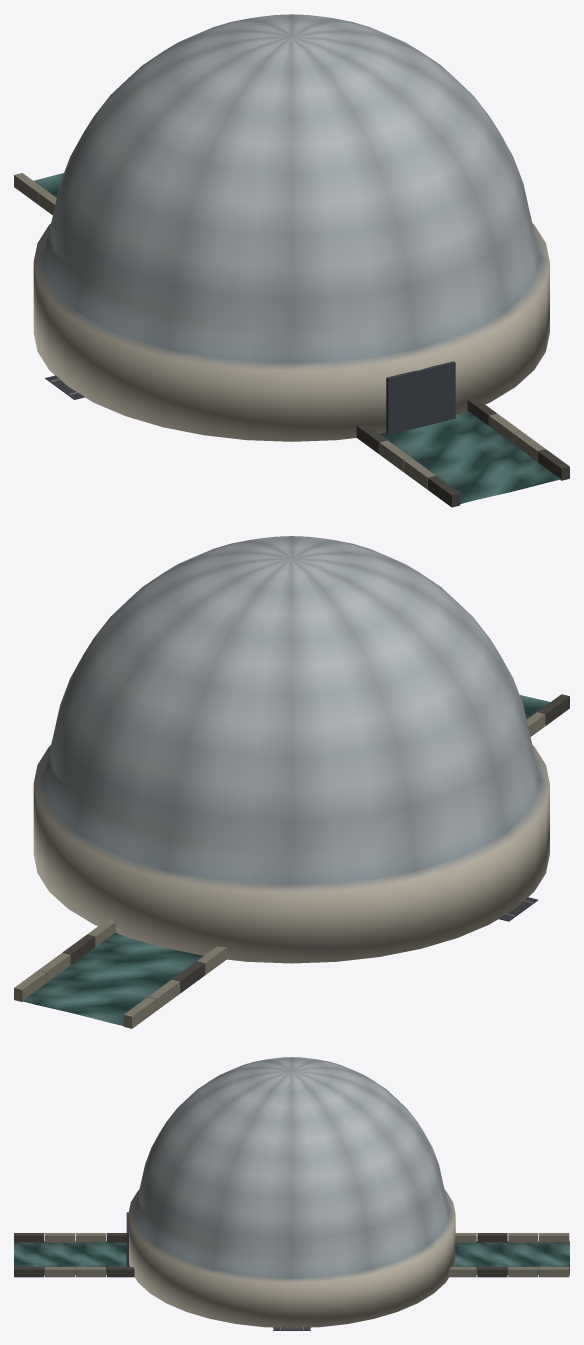
The model's file is past.glb.
3 renders of one model, top to bottom at view 1: azimuth 30°, elevation 25°; view 2: azimuth 150°, elevation 25°; view 3: azimuth 270°, elevation 25°, orthographic. The views are drawn at different scales.
Visible parts, largest first — view 1: dome, river; view 2: dome, river; view 3: dome, river.
Boxes of the visible parts, x1,y1,x2,y2 form: dome: [33, 14, 549, 441]; river: [14, 173, 569, 507]; dome: [33, 536, 549, 963]; river: [14, 694, 569, 1028]; dome: [126, 1057, 455, 1327]; river: [14, 1233, 569, 1277].
Bounding box in the file's own units: 22 × 13.4 × 36.
